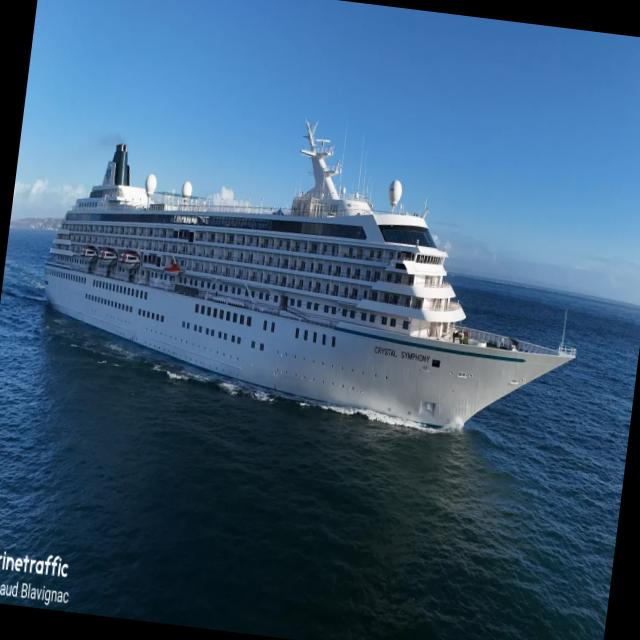Cruise: (44, 121, 577, 427)
